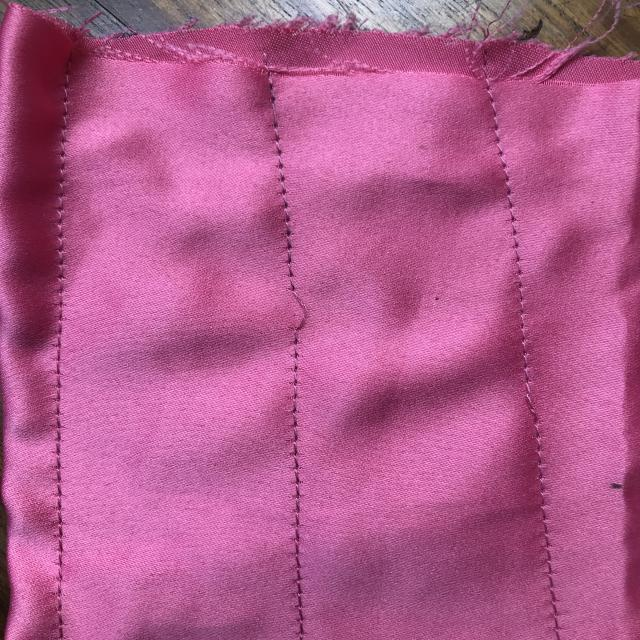skip: (274, 281, 328, 343)
